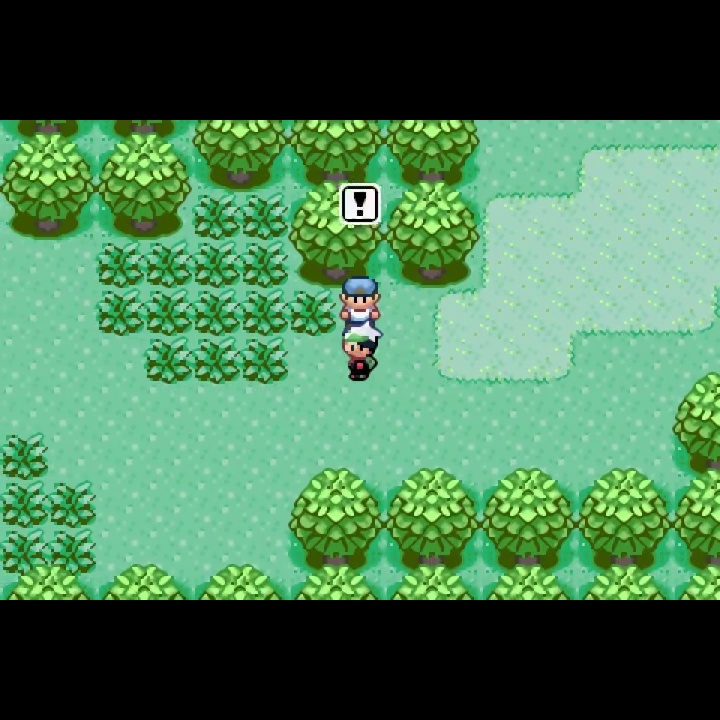grass: (239, 190, 290, 243), (96, 239, 145, 291), (144, 288, 194, 338), (240, 336, 289, 387), (288, 287, 337, 338), (191, 189, 240, 240), (192, 336, 241, 386), (240, 288, 289, 338), (240, 241, 290, 290), (49, 528, 98, 577), (96, 288, 145, 337), (1, 478, 49, 528), (193, 288, 241, 338), (190, 241, 241, 288), (49, 480, 97, 529), (143, 337, 192, 385), (145, 240, 191, 290), (1, 432, 49, 479), (1, 528, 48, 576)
npc: (341, 319, 383, 383), (338, 276, 381, 331)
wall: (289, 180, 387, 289), (96, 132, 193, 241), (1, 131, 97, 241), (386, 180, 481, 290), (385, 467, 482, 568), (480, 467, 577, 567), (287, 467, 385, 565), (577, 467, 672, 565), (190, 120, 290, 191), (291, 121, 387, 181), (385, 120, 479, 180), (671, 370, 720, 471), (672, 469, 720, 564), (97, 563, 193, 600), (192, 564, 289, 600), (577, 563, 673, 599), (480, 564, 578, 599), (384, 564, 481, 599), (288, 565, 385, 600), (1, 565, 97, 599), (96, 120, 192, 142), (1, 119, 97, 141), (673, 561, 720, 600)
